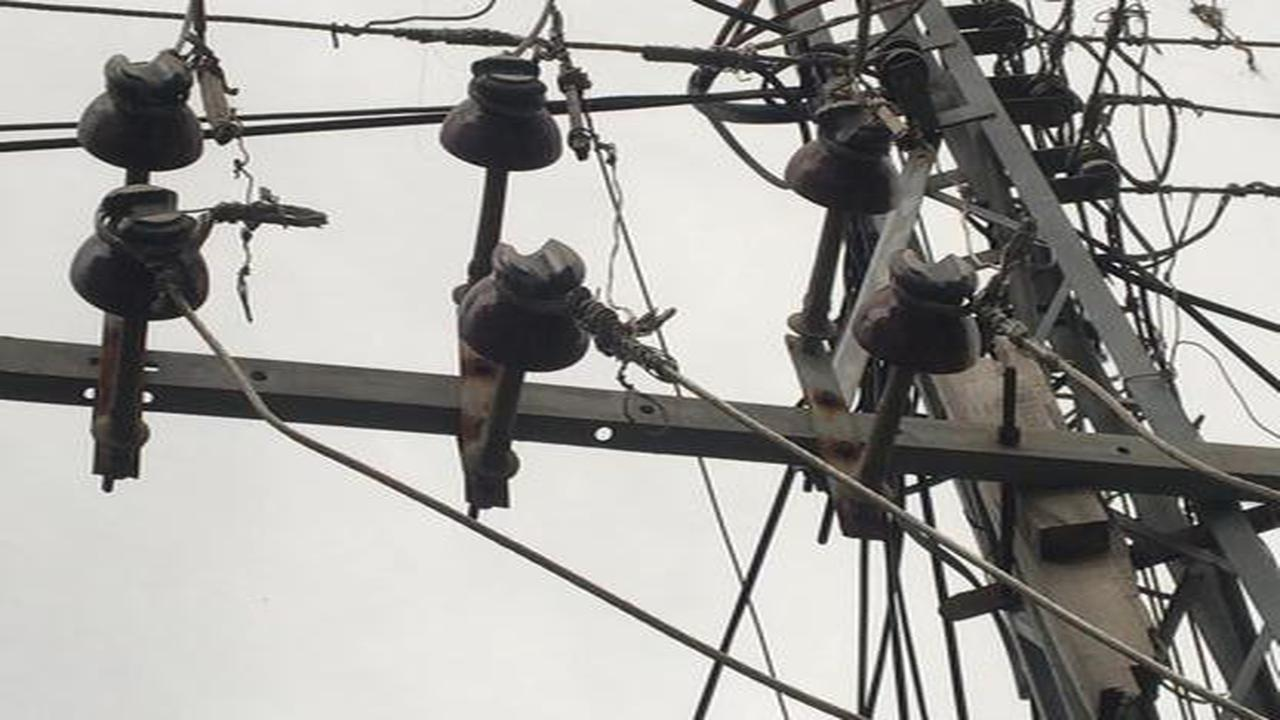insulator_pin: (51, 182, 219, 322), (442, 229, 601, 376), (423, 44, 573, 174), (60, 42, 211, 170), (848, 245, 985, 379), (777, 94, 906, 222)
